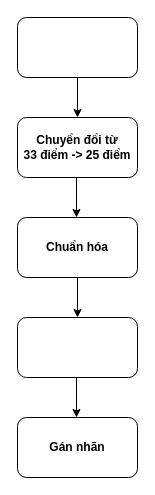
This 155x495 diagram has some shape labels left out. The centre of each missing label's shape, as x and y in pixels:
"Trích xuất dữ liệu từ Mediapipe" belongs at point (77, 47).
"Đệm và cắt" belongs at point (77, 347).
